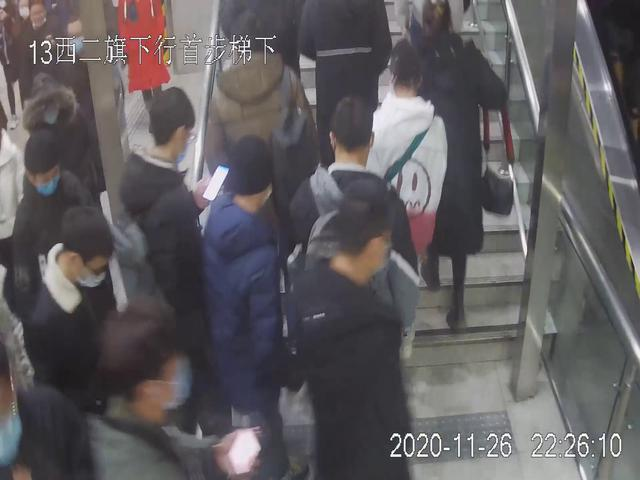person: (286, 174, 418, 480), (404, 1, 509, 335), (112, 84, 204, 414), (203, 133, 290, 452), (365, 36, 449, 317)
